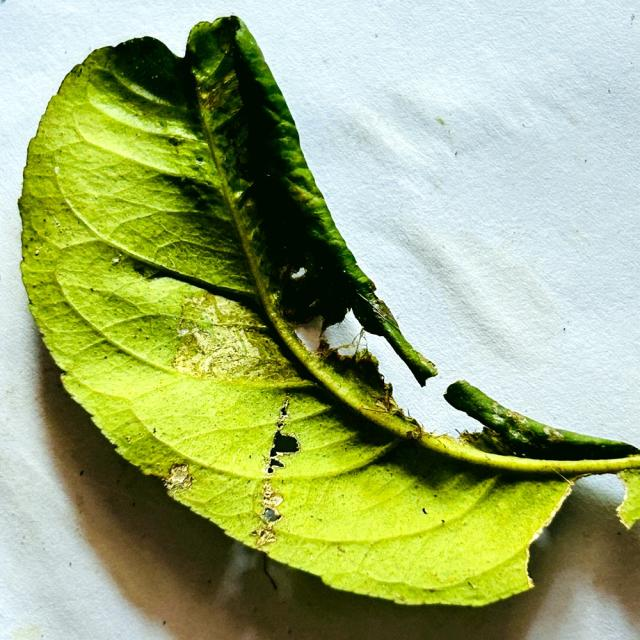Deficiency Leaf: (280, 267, 482, 439), (528, 476, 637, 586)
Lemon: (19, 17, 639, 605)
